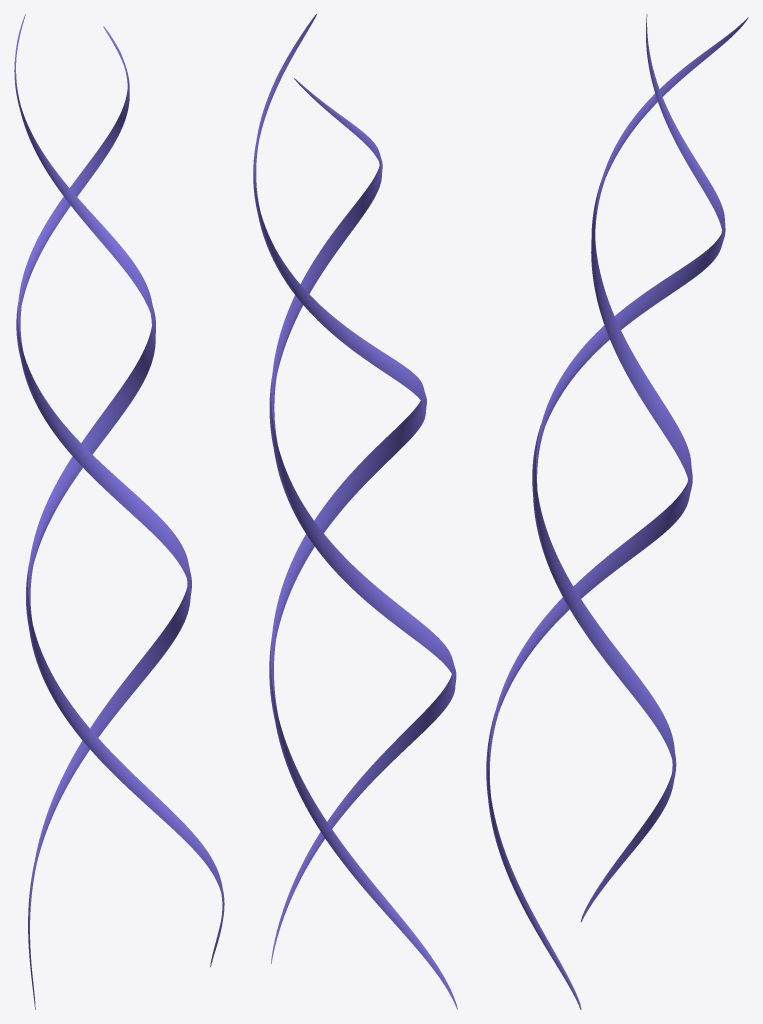
File: MoonAura.obj
The picture shows the model from 3 angles, left to right: view 1: azimuth 30°, elevation 25°; view 2: azimuth 150°, elevation 25°; view 3: azimuth 270°, elevation 25°; orthographic projection. The views are drawn at different scales.
Parts seen in each view (by area): view 1: MoonAura; view 2: MoonAura; view 3: MoonAura.
Boxes of the visible parts, <box> form: MoonAura: <box>14,14,224,1009</box>; MoonAura: <box>253,14,457,1009</box>; MoonAura: <box>486,14,748,1009</box>.
Size of the model in its own units: 0.8431 by 4.29 by 1.06.
